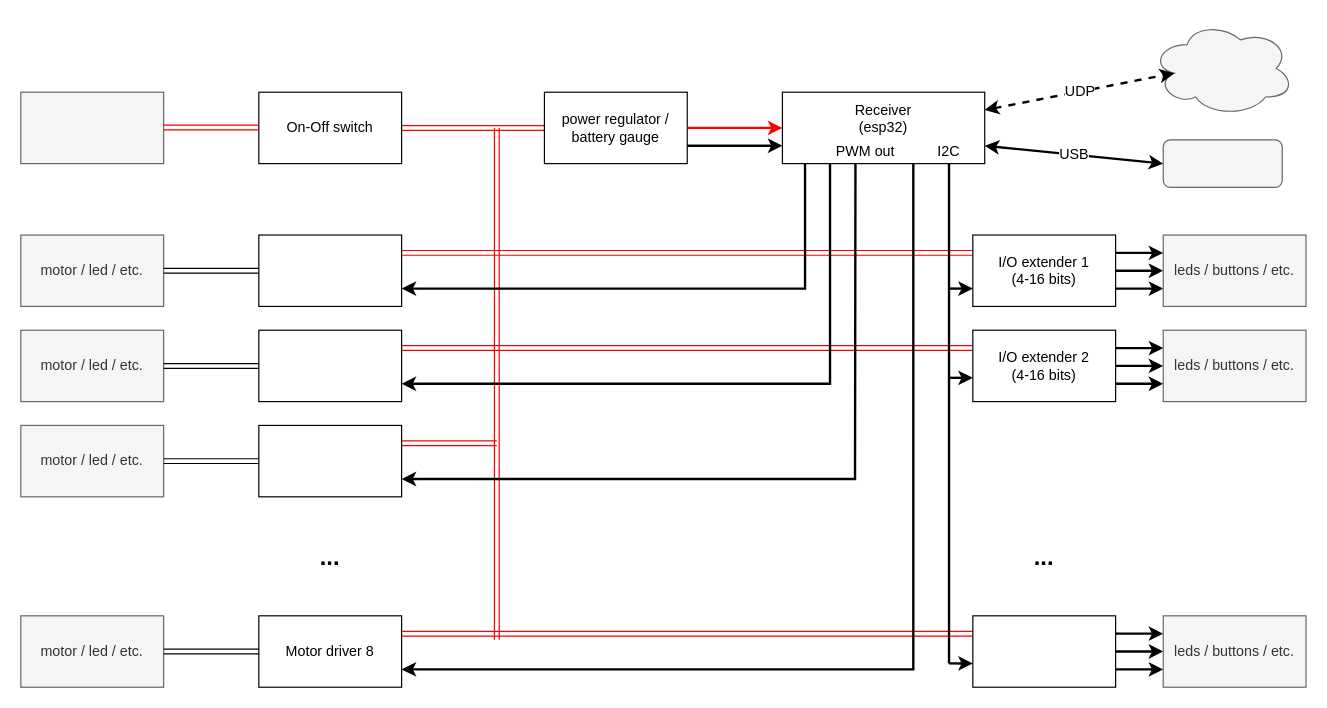
This 1327x708 diagram has some shape labels left out. The shapes that lost their labels are listed below. From the top down, each one's centre as x and y in pixels, then its label:
At point (1222, 68): "WIFI".
At point (92, 127): "Battery pack (7.2-9V)".
At point (1222, 163): "PC/phone/tablet (config terminal)".
At point (330, 270): "Motor driver 1".
At point (330, 365): "Motor driver 2".
At point (330, 460): "Motor driver 3".
At point (1044, 651): "I/O extender N (4-16 bits)".
